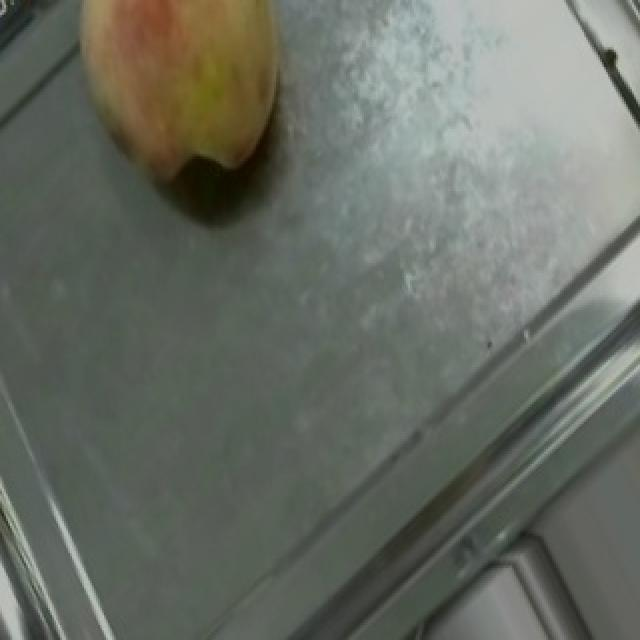Fruit: (36, 0, 332, 218)
